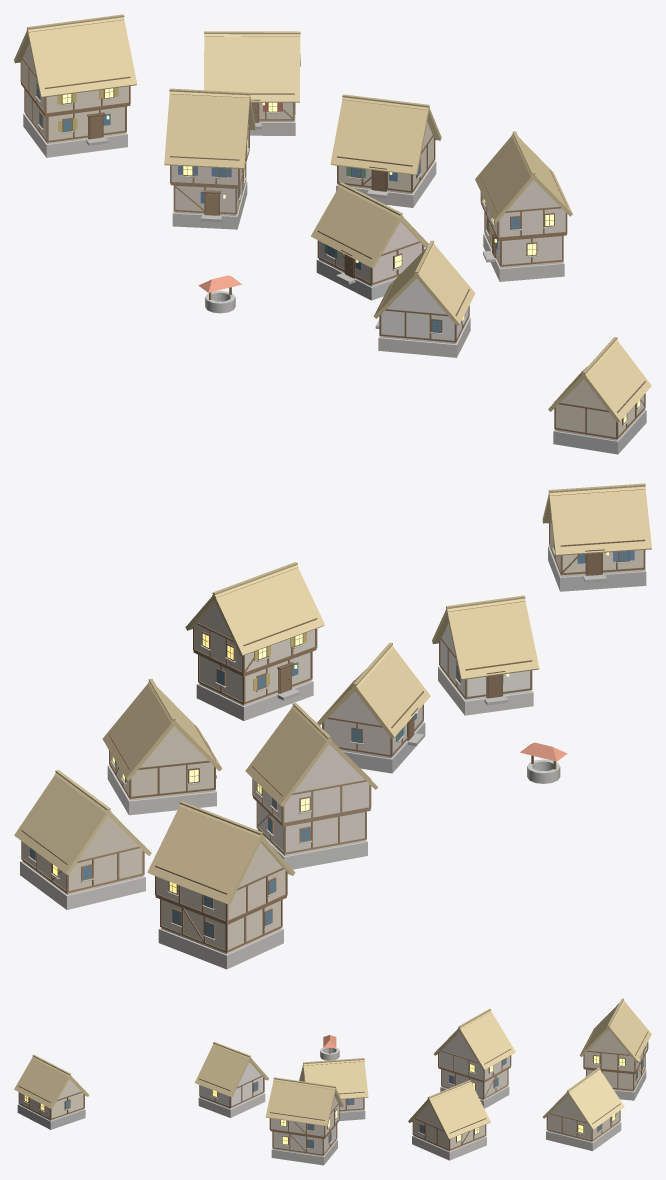
Rendered from struct_6_11.glb.
The picture shows the model from 3 angles, top to bottom: view 1: azimuth 30°, elevation 25°; view 2: azimuth 150°, elevation 25°; view 3: azimuth 270°, elevation 25°; orthographic projection. The views are drawn at different scales.
Visible parts, largest first — view 1: HousesNear, Landmarks; view 2: HousesNear, Landmarks; view 3: HousesNear, Landmarks.
Boxes of the visible parts, x1,y1,x2,y2 form: HousesNear: [14, 14, 651, 454]; Landmarks: [198, 275, 241, 313]; HousesNear: [14, 483, 651, 969]; Landmarks: [520, 742, 567, 783]; HousesNear: [14, 998, 651, 1165]; Landmarks: [320, 1035, 339, 1060].
Bounding box in the file's own units: 35.7 × 11.67 × 87.27.
